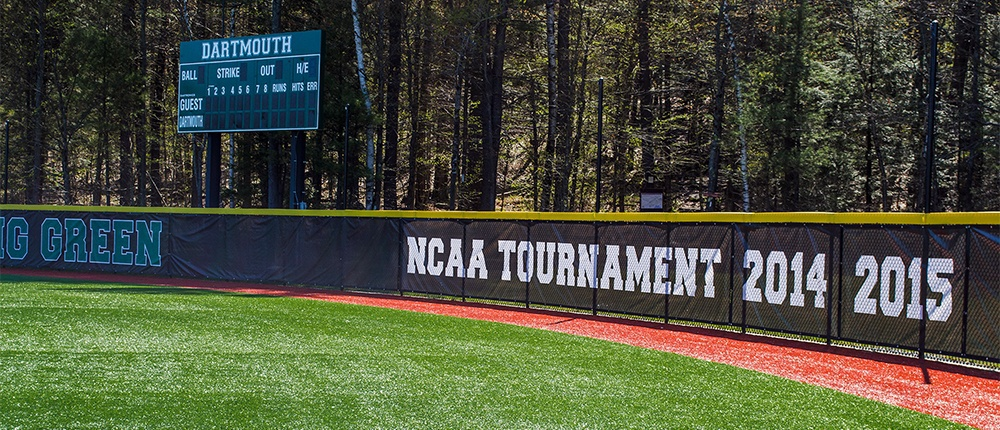text: (850, 255, 865, 326), (866, 255, 881, 326), (882, 255, 897, 326), (898, 255, 913, 326), (914, 255, 929, 326), (930, 255, 945, 326), (946, 255, 961, 326), (737, 250, 752, 312), (753, 250, 768, 312), (769, 250, 784, 312), (785, 250, 800, 312), (801, 250, 816, 312), (817, 250, 832, 312), (498, 240, 513, 300), (514, 240, 529, 300), (530, 240, 545, 300), (546, 240, 561, 300), (562, 240, 577, 300), (578, 240, 593, 300), (594, 240, 609, 300), (610, 240, 625, 300), (626, 240, 641, 300), (642, 240, 657, 300), (658, 240, 673, 300), (674, 240, 689, 300), (690, 240, 705, 300), (706, 240, 721, 300), (38, 218, 53, 268), (54, 218, 69, 268), (70, 218, 85, 268), (86, 218, 101, 268), (102, 218, 117, 268), (118, 218, 133, 268), (134, 218, 149, 268), (150, 218, 165, 268), (1, 217, 16, 261), (17, 217, 32, 261), (400, 237, 415, 281), (416, 237, 431, 281), (432, 237, 447, 281), (448, 237, 463, 281), (464, 237, 479, 281), (480, 237, 495, 281), (199, 36, 214, 60), (215, 36, 230, 60), (231, 36, 246, 60), (247, 36, 262, 60), (263, 36, 278, 60), (279, 36, 294, 60), (177, 114, 192, 131), (193, 114, 208, 131), (295, 61, 310, 76), (213, 66, 228, 80), (229, 66, 244, 80), (176, 98, 191, 112), (192, 98, 207, 112), (174, 70, 189, 82), (190, 70, 205, 82), (261, 65, 276, 77), (225, 85, 240, 97), (290, 81, 305, 93), (232, 85, 247, 96), (240, 84, 255, 95), (201, 87, 216, 97), (208, 87, 223, 97), (215, 86, 230, 96), (258, 84, 273, 94), (272, 83, 287, 93), (304, 81, 319, 91), (251, 85, 266, 94)
